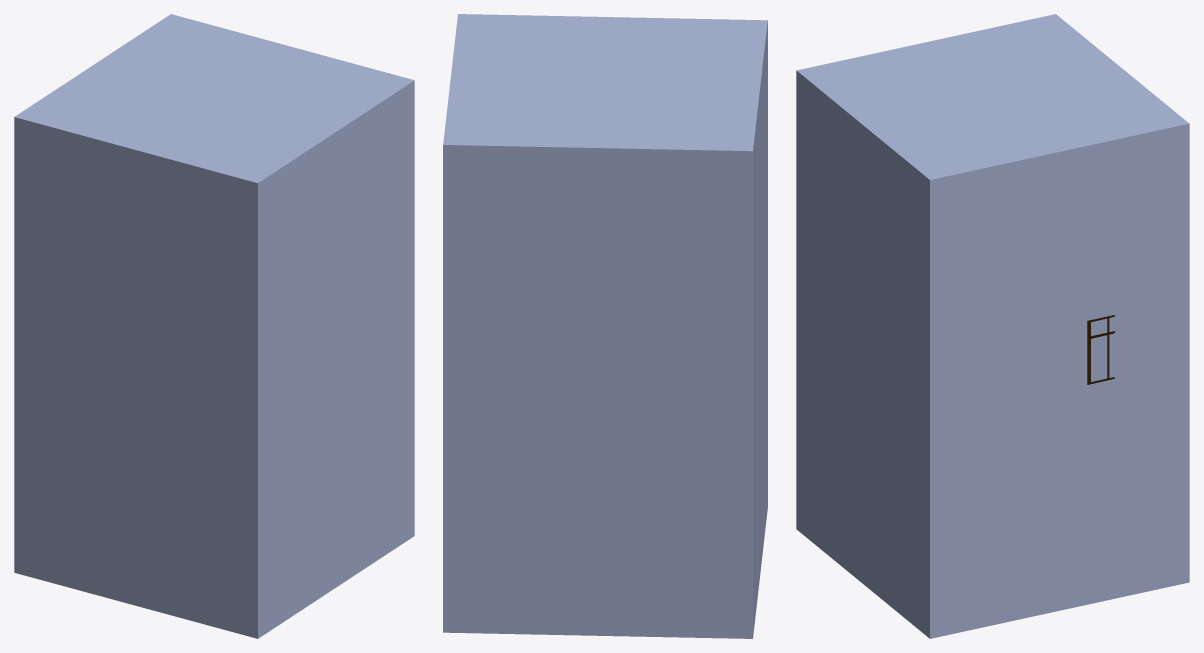
3 views of the same model, side by side, from view 1: azimuth 30°, elevation 25°; view 2: azimuth 150°, elevation 25°; view 3: azimuth 270°, elevation 25° (orthographic). The views are drawn at different scales.
Visible parts, largest first — view 1: Cube; view 2: Cube; view 3: Cube, Windowframe2.001.
Part boxes in pixels (x1=…): Cube: x1=14, y1=14, x2=414, y2=638; Cube: x1=443, y1=14, x2=767, y2=638; Cube: x1=796, y1=14, x2=1189, y2=638; Windowframe2.001: x1=1087, y1=315, x2=1114, y2=384.
Size of the model in its own units: 3 by 3.86 by 3.
